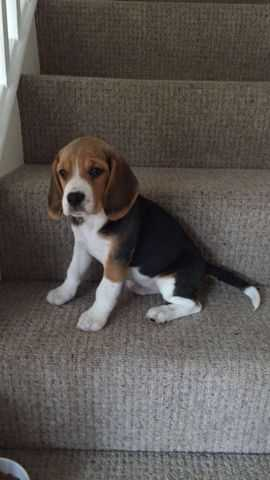dog: (45, 137, 264, 331)
